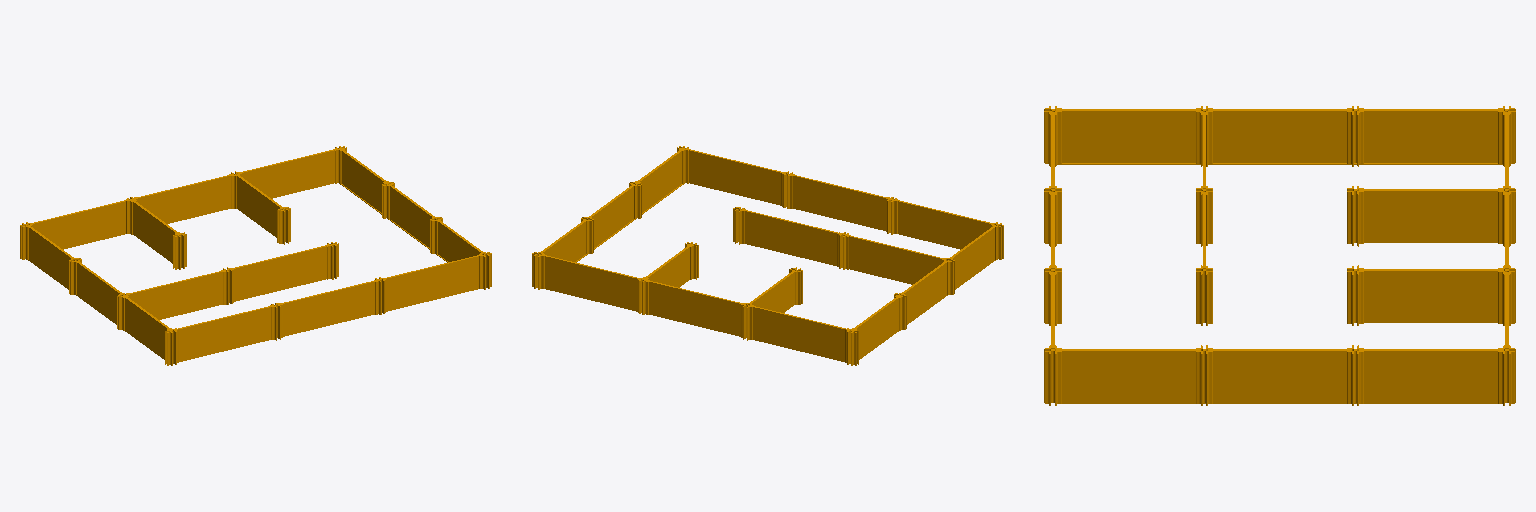
The robot description file, URDF, robot "pr2_maze":
<robot name="pr2_maze">

  <link name="maze_body">

    <inertial>
      <mass value="1" />
      <origin rpy="0 0 0" xyz="0 0 0.00"/>
      <inertia  ixx="1.0" ixy="0.0"  ixz="0.0"  iyy="1.0"  iyz="0.0"  izz="1.0" />
    </inertial>

    <visual>
      <origin rpy="0 0 0" xyz="0 0 0.0"/>
      <geometry>
        <mesh filename="package://pr2_tutorial/worlds/pr2_maze_reduced.dae"/>
      </geometry>
    </visual>

    <collision>
      <origin rpy="0 0 0" xyz="0 0 0.0"/>
      <geometry>
        <mesh filename="package://pr2_tutorial/worlds/pr2_maze_reduced.dae"/>
      </geometry>
    </collision>

  </link>

</robot>

--- Render facts (derived) ---
3 views of the same robot in one strip: view 1: azimuth 30°, elevation 25°; view 2: azimuth 150°, elevation 25°; view 3: azimuth 270°, elevation 25° (orthographic).
Model pr2_maze with 1 links and 0 joints (none), rooted at maze_body, posed every joint at zero.
Links seen in each view (by area): view 1: maze_body; view 2: maze_body; view 3: maze_body.
Boxes of the visible links, left/top/right/bottom form: maze_body: left=20, top=146, right=491, bottom=365; maze_body: left=532, top=146, right=1003, bottom=365; maze_body: left=1044, top=106, right=1515, bottom=405.
Bounding box of the posed robot: 7.47 × 5.97 × 0.7401 m (x, y, z).
Meshes: 1 distinct files referenced, 1 mesh visuals loaded (1 Collada DAE).